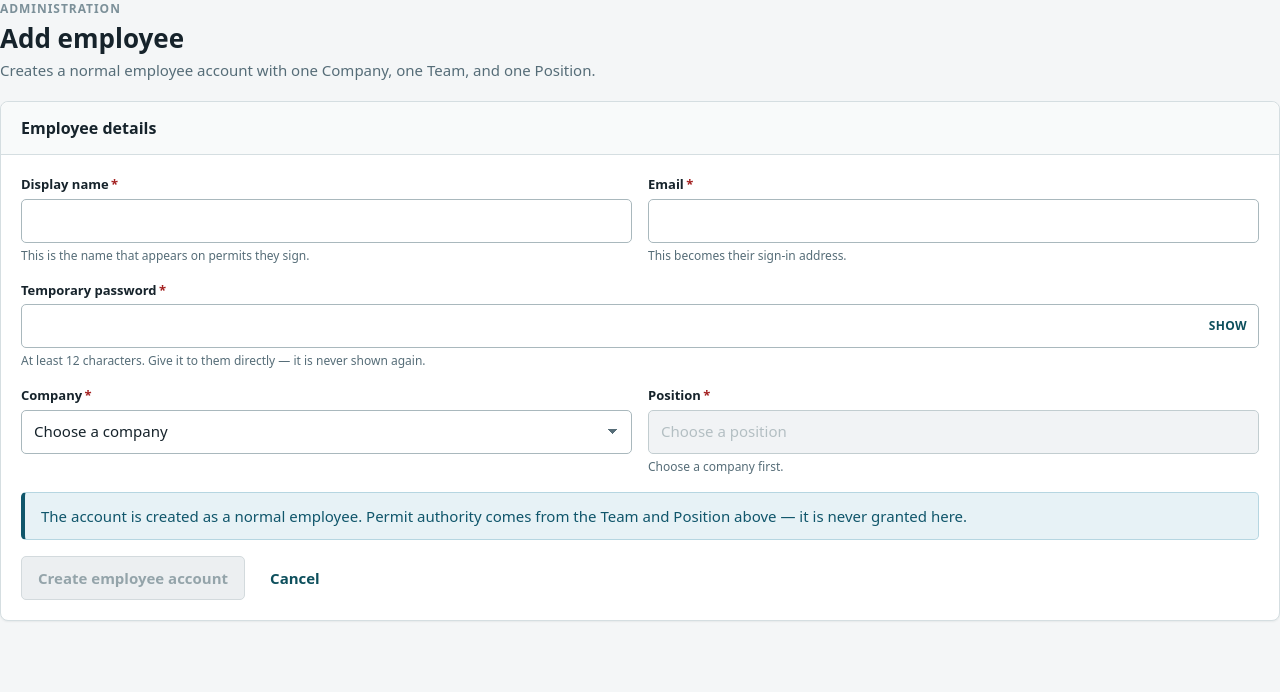
Test: the temporary password › is cleared from the form after a SUCCESSFUL request
The image size is (1280, 692).
Type "Ayesha Khan" into the field labelled "Display name*" at x=326, y=220, box [21,198,632,242]
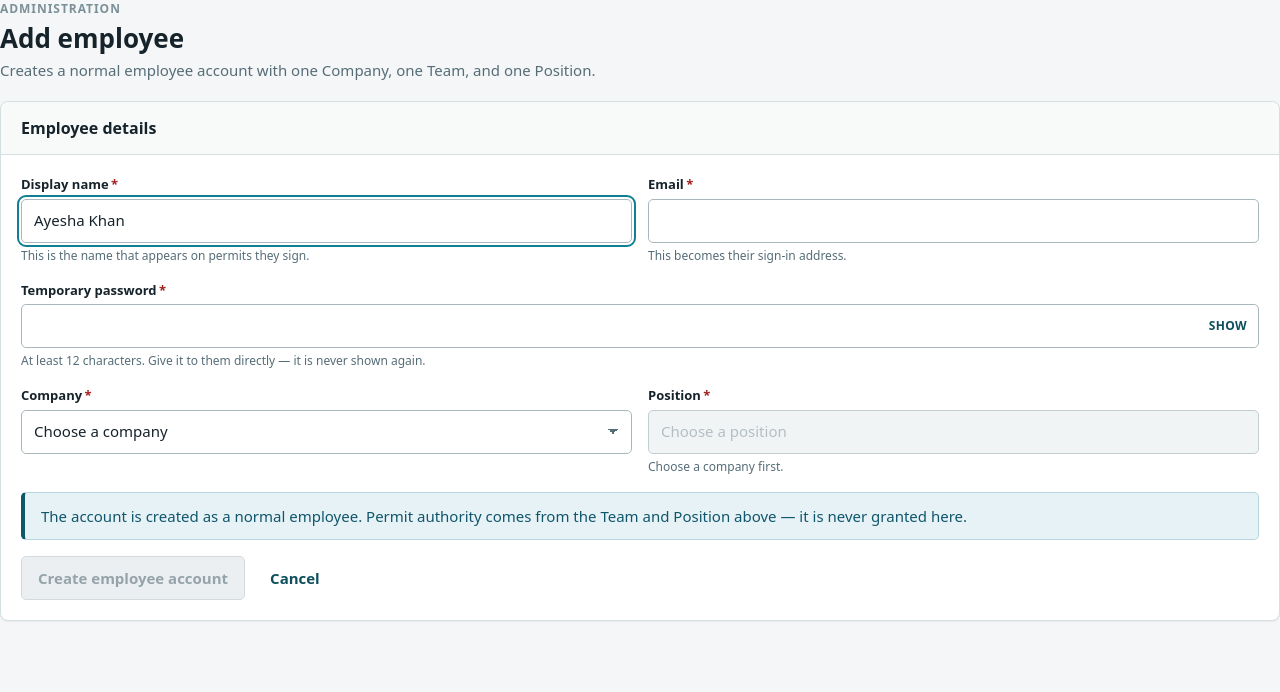
Type "ayesha@example.com" into the field labelled "Email*" at x=954, y=220, box [648,198,1259,242]
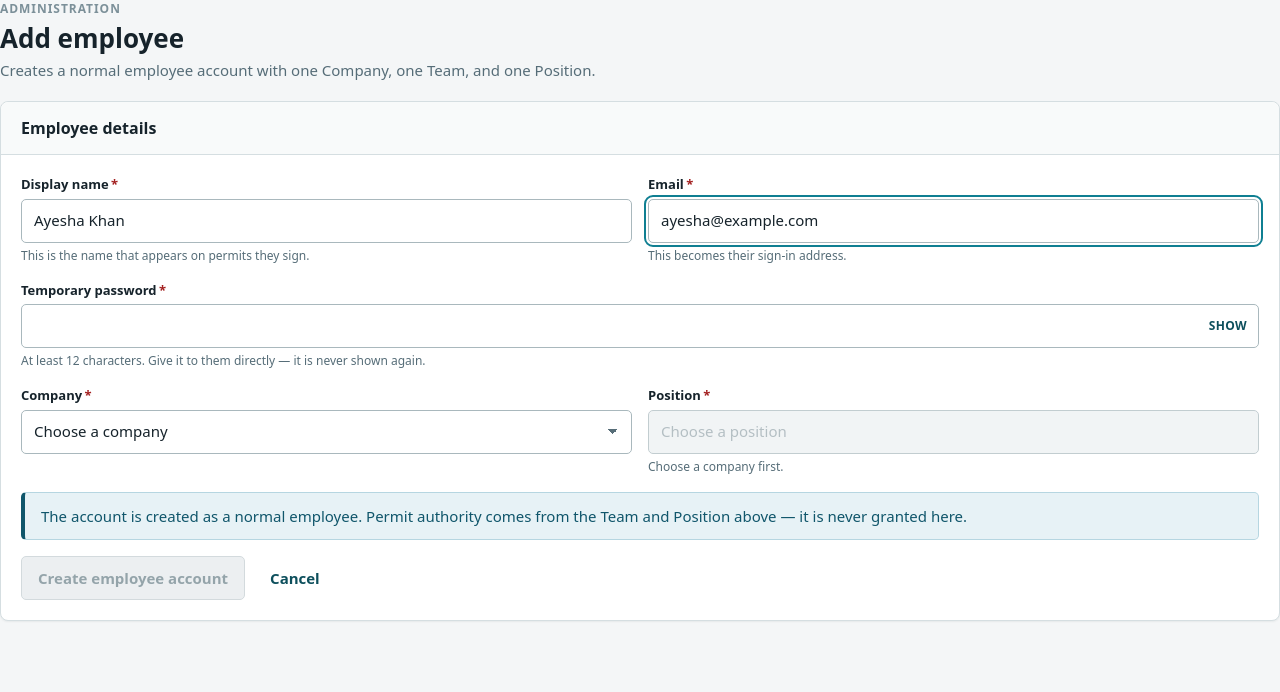
Type "a-temporary-password" into the password field labelled "Temporary password*" at x=640, y=326, box [21,304,1259,348]
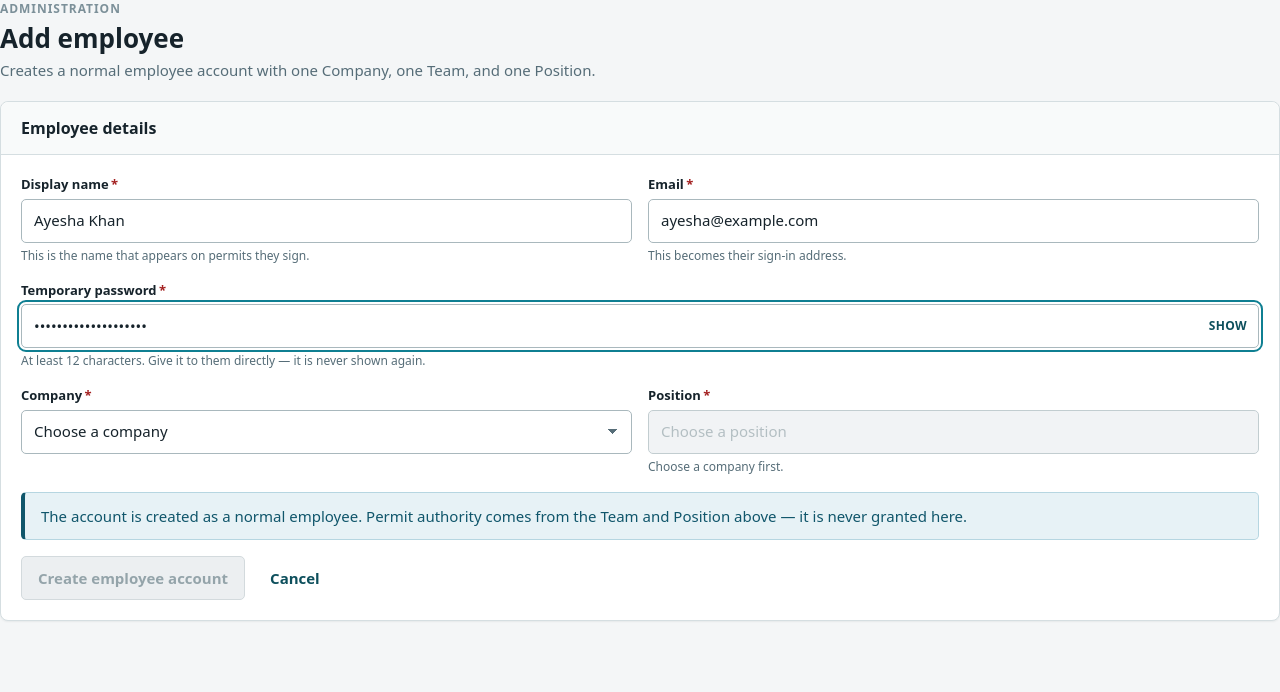
Select "ZPL" in the dropdown labelled "Company*" at x=326, y=432, box [21,410,632,454]
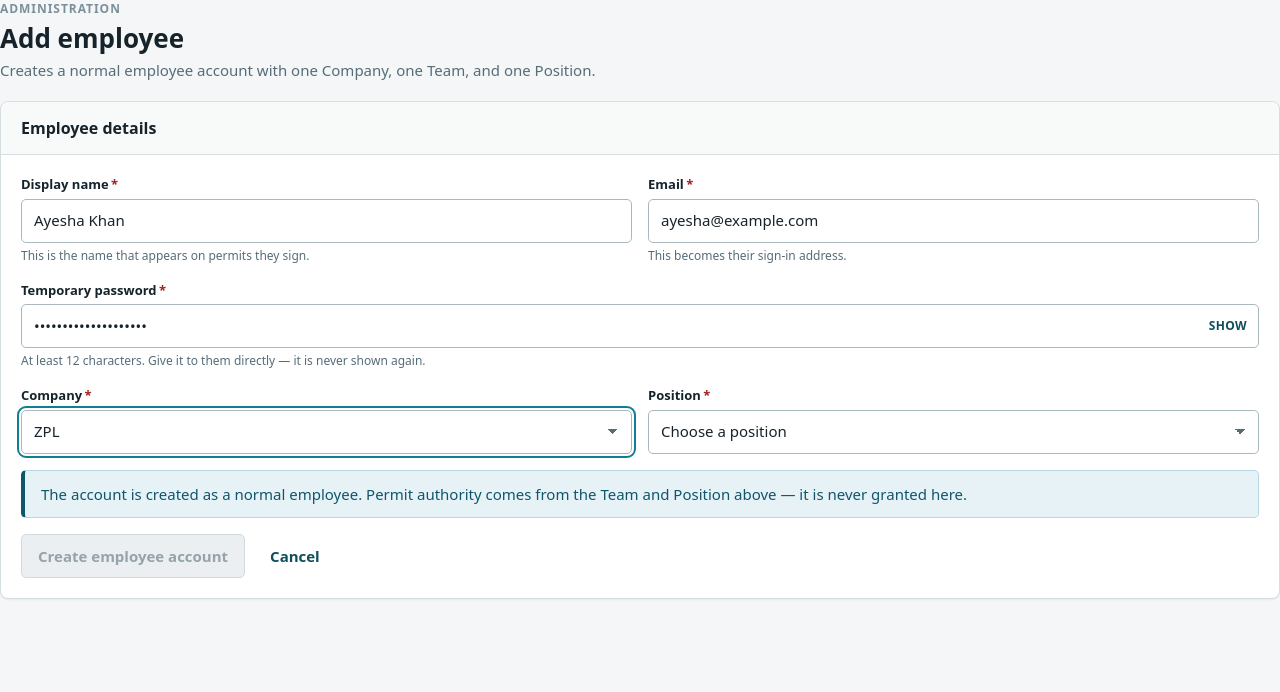
Select "Engineer" in the dropdown labelled "Position*" at x=954, y=432, box [648,410,1259,454]
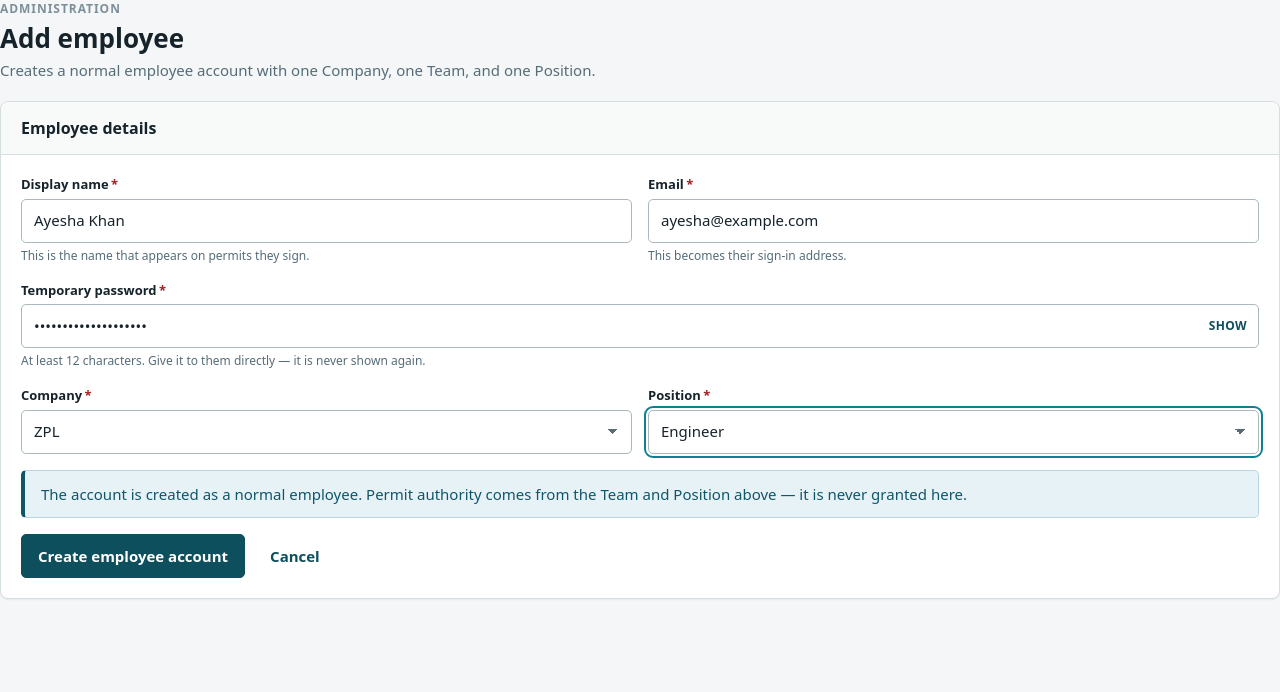
Click the button "Create employee account" at x=133, y=556, box [21,534,245,578]
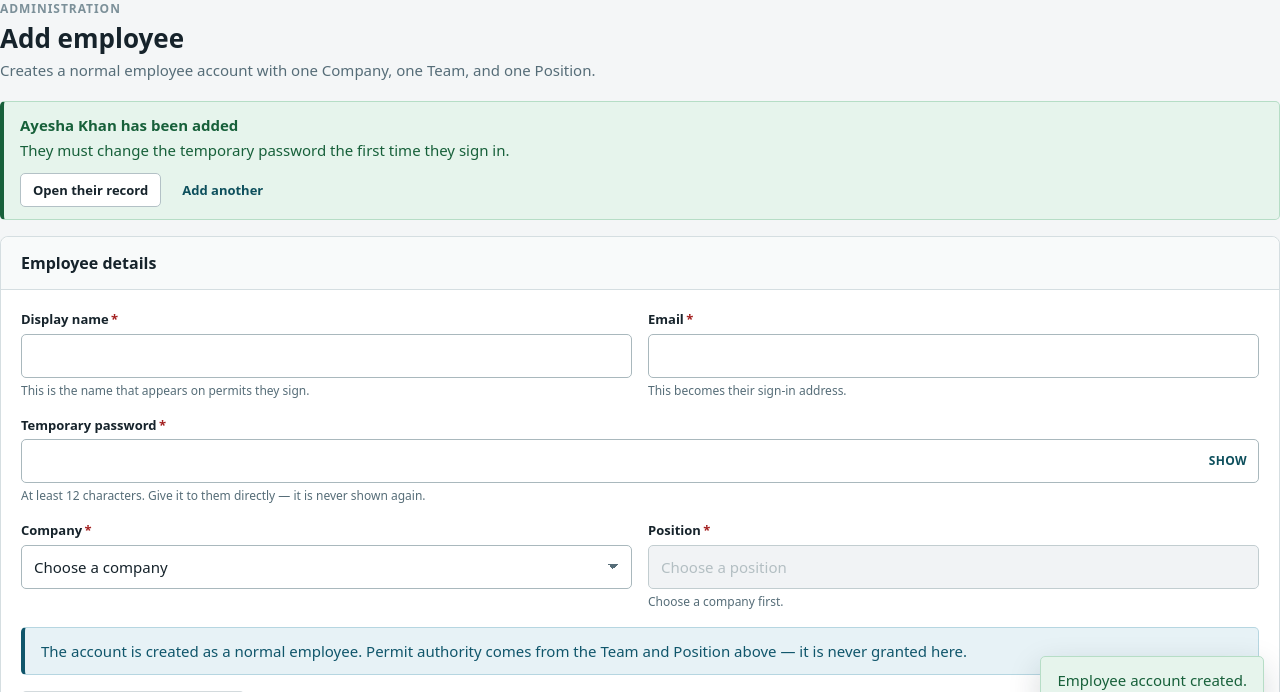
Expected: the text "Ayesha Khan has been added" is shown, [20,115,238,135]
Expected: the password field labelled "Temporary password*" is empty, [21,439,1259,483]
